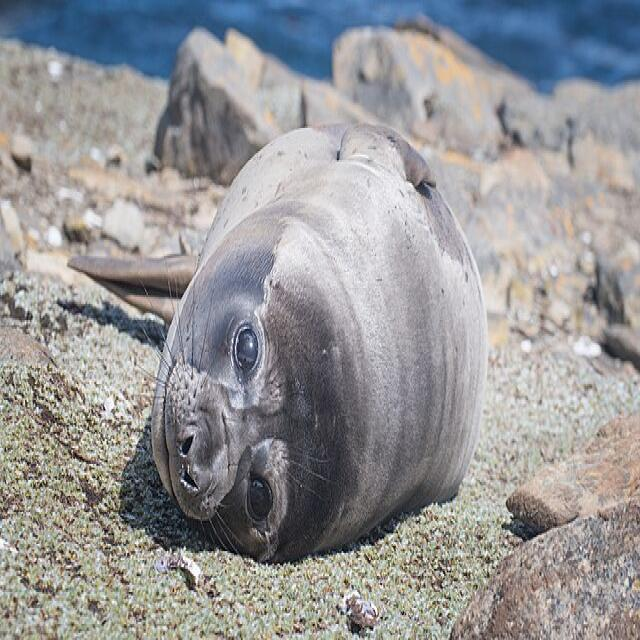walrus: (116, 105, 536, 578)
